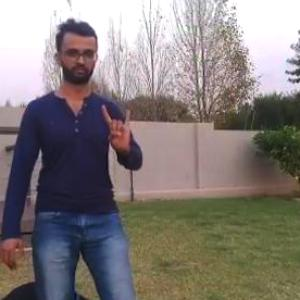takeoff-hand: (98, 97, 139, 155)
